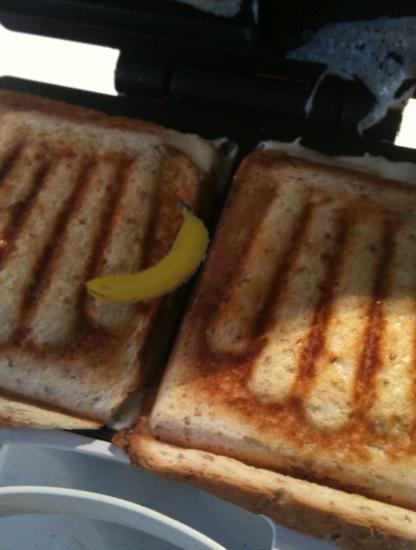Banana: (77, 189, 216, 328)
